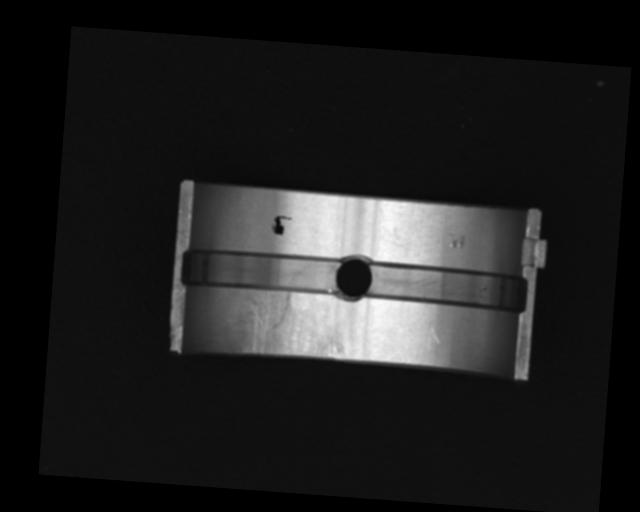blot: (270, 214, 291, 236)
bruise: (450, 233, 466, 248)
gap: (182, 247, 345, 297), (365, 262, 529, 311)
hole: (331, 253, 372, 304)
nick: (420, 303, 441, 344)
scratch: (236, 289, 346, 359)
